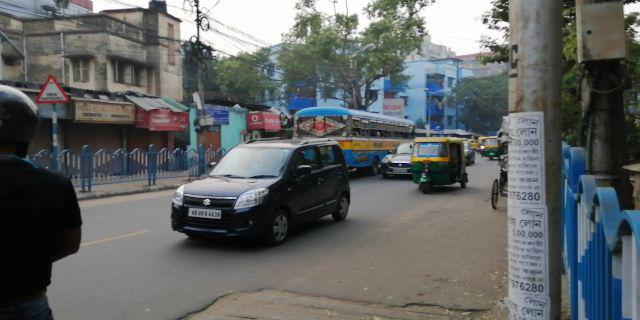Autorickshaw: (408, 137, 468, 190)
Bus: (289, 104, 415, 172)
Car: (168, 137, 355, 240)
